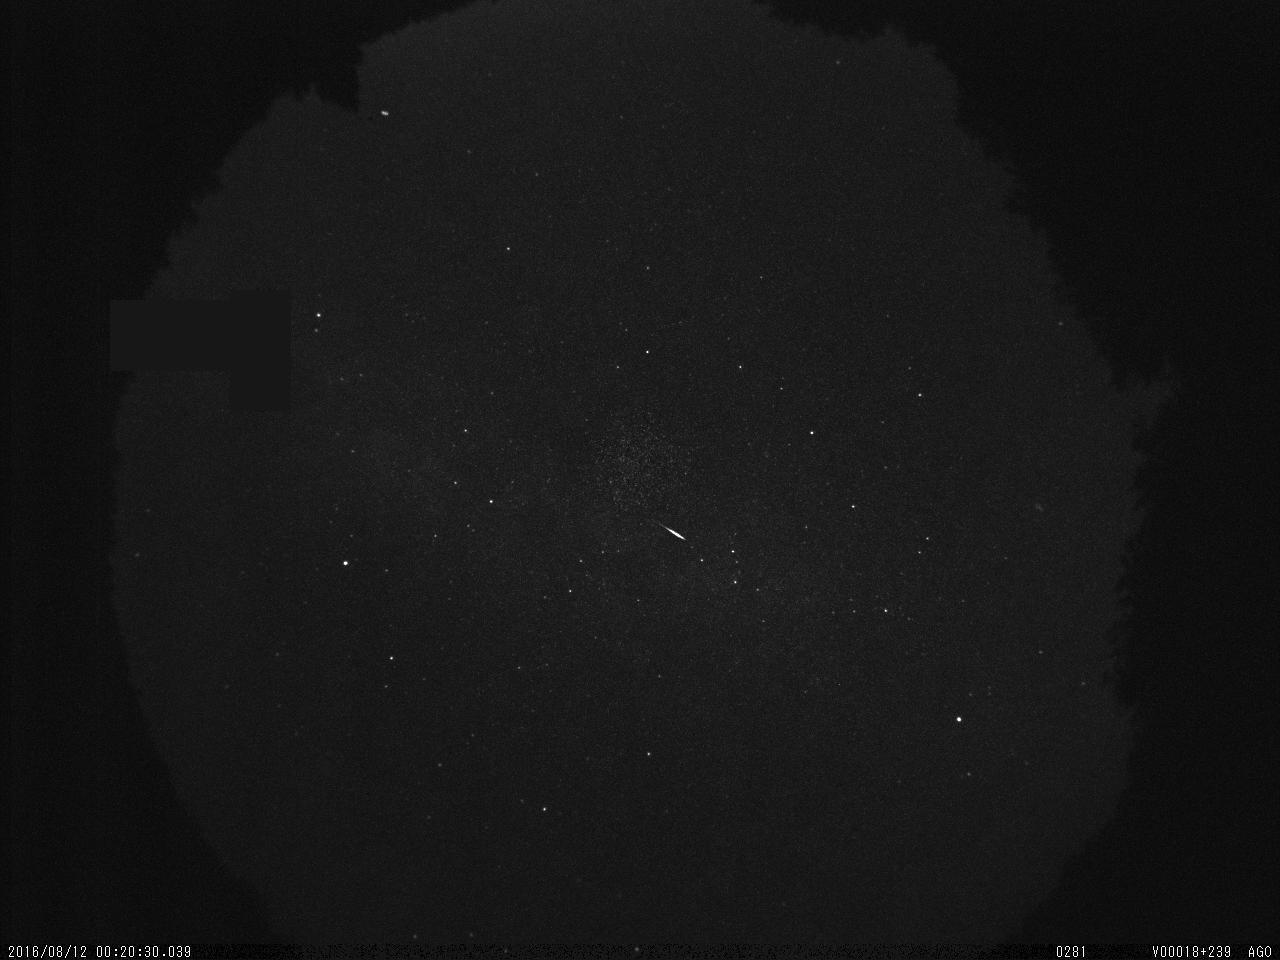meteor: (656, 520, 698, 547)
